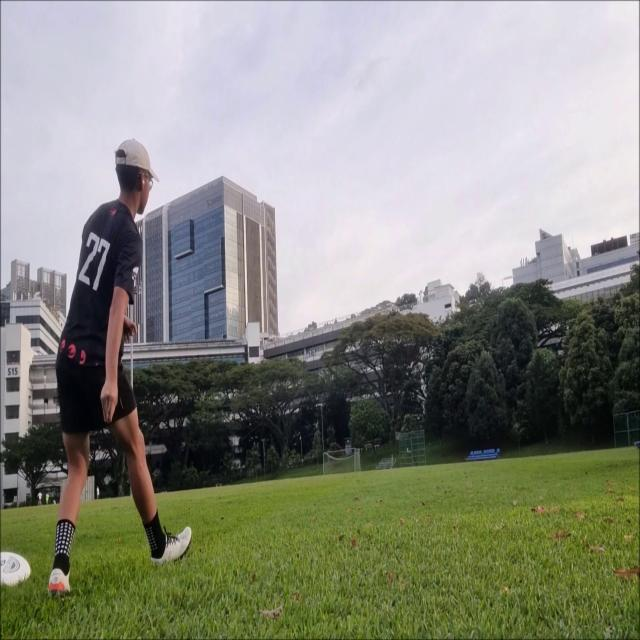disc: (502, 275, 516, 281)
